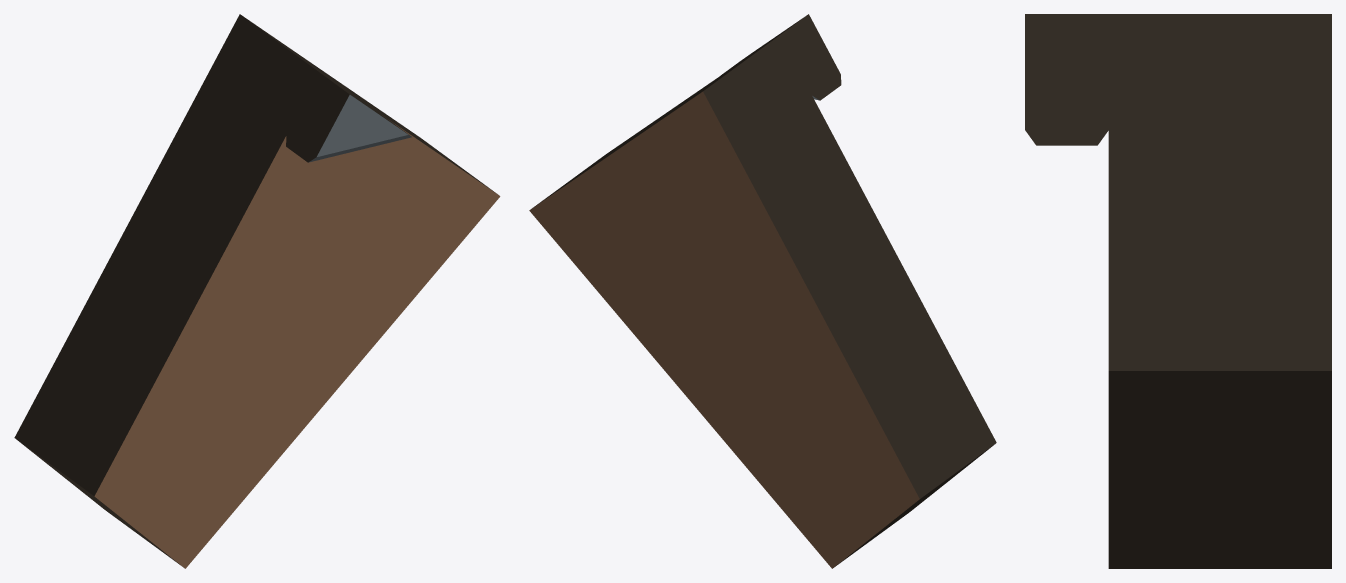
File: SM_DoorShard_01_12.fbx
3 views of the same model, side by side, from view 1: azimuth 30°, elevation 25°; view 2: azimuth 150°, elevation 25°; view 3: azimuth 270°, elevation 25° (orthographic). The views are drawn at different scales.
Parts seen in each view (by area): view 1: SM_DoorShard_01_12; view 2: SM_DoorShard_01_12; view 3: SM_DoorShard_01_12.
Boxes of the visible parts, x1,y1,x2,y2 form: SM_DoorShard_01_12: [14, 14, 500, 568]; SM_DoorShard_01_12: [529, 14, 996, 568]; SM_DoorShard_01_12: [1025, 14, 1331, 568].
Size of the model in its own units: 46.9 by 22 by 51.16.
